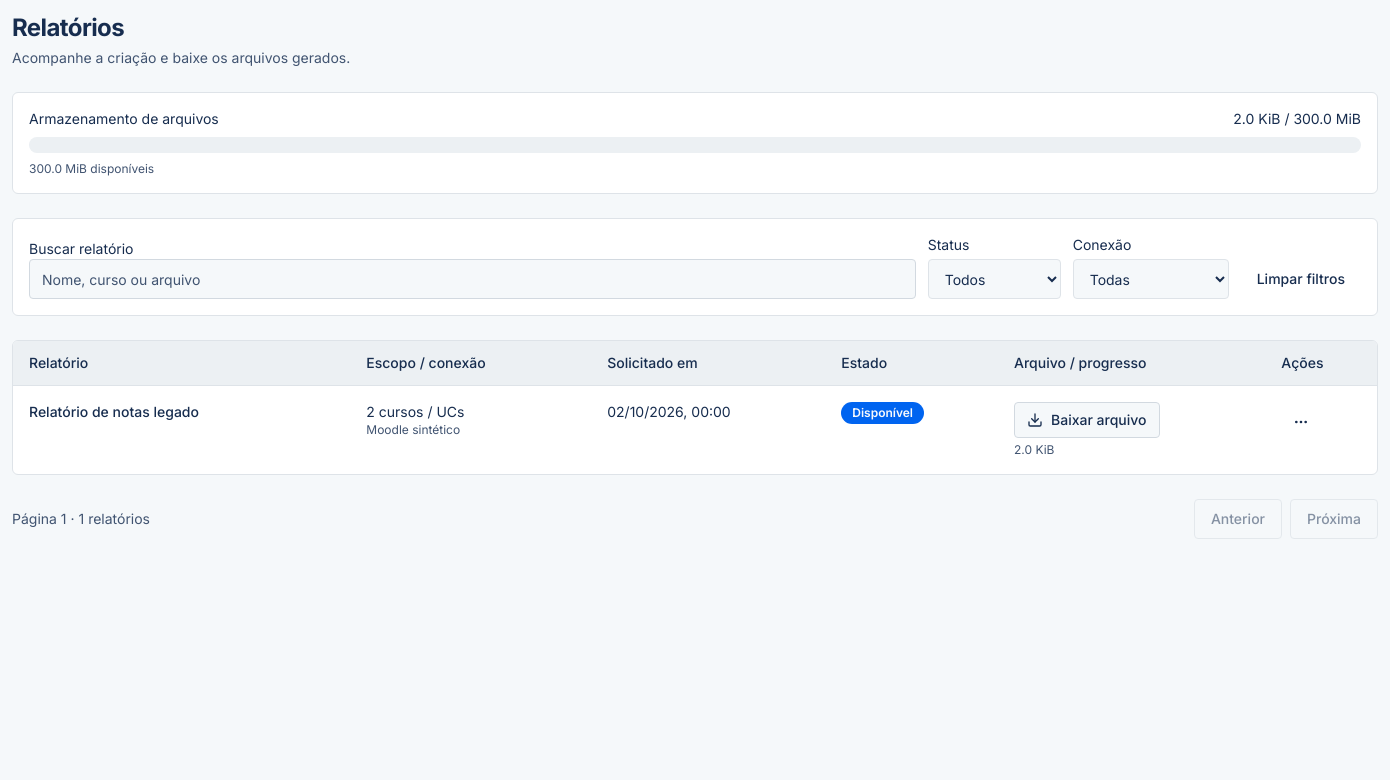
it: histórico privado › keeps legacy downloads and terminal actions with the templates flag off
This screenshot has width=1390, height=780.
Expected: the text "Moodle sintético" is shown, left=366, top=422, right=460, bottom=437
Step 1. Click the button named "Ações de Relatório de notas legado" → click(1301, 422), box left=1281, top=402, right=1321, bottom=442
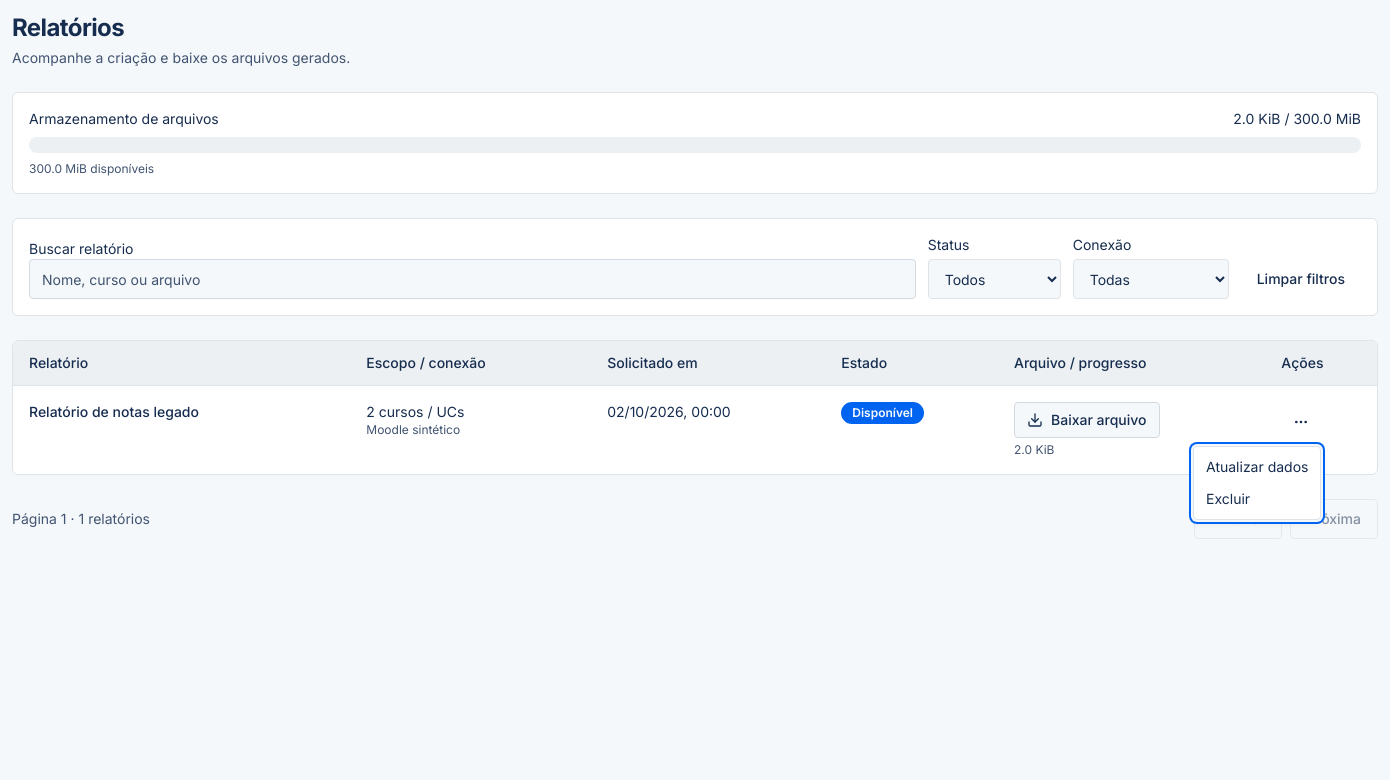
Step 2. Click the menu item "Atualizar dados" → click(1257, 466), box left=1206, top=458, right=1308, bottom=475
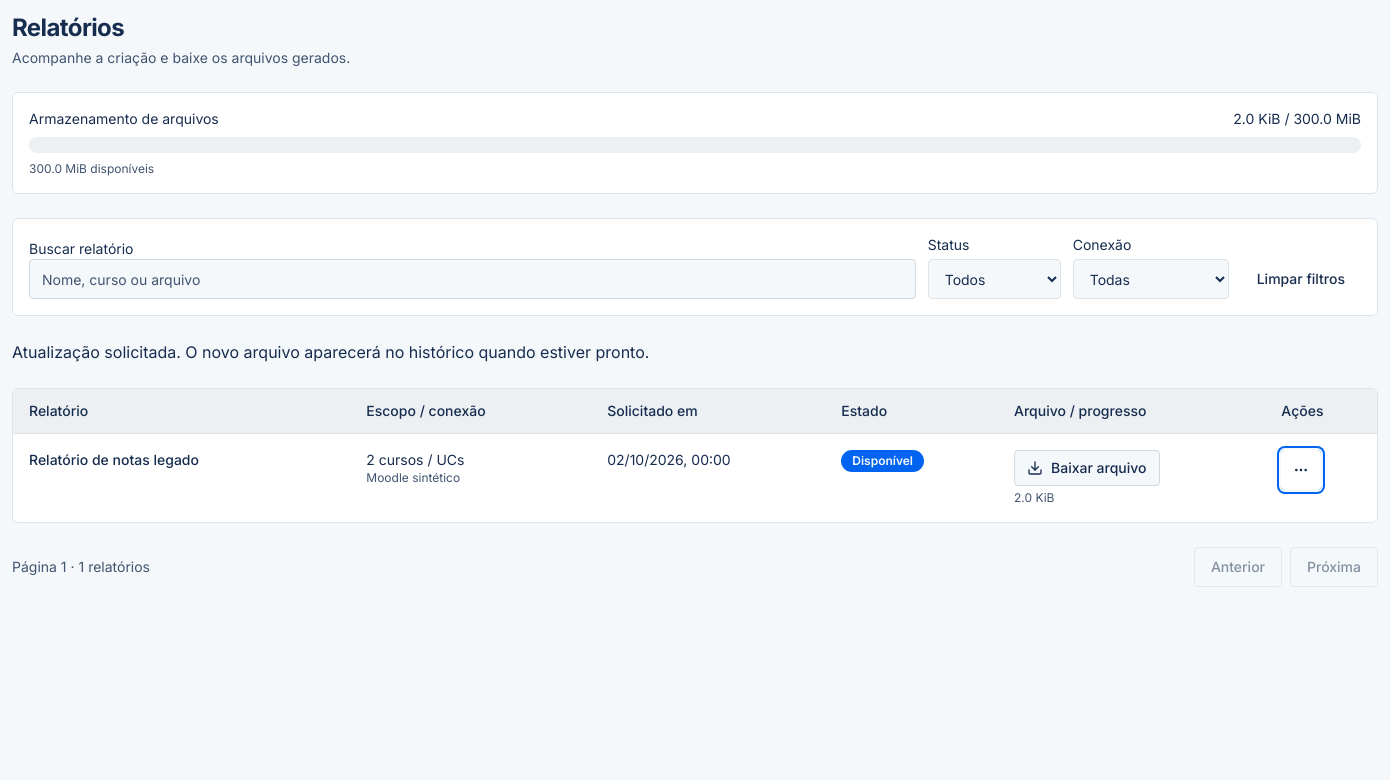
Expected: the text "Atualização solicitada. O novo arquivo aparecerá no histórico quando estiver pronto." is shown, left=12, top=342, right=649, bottom=362
